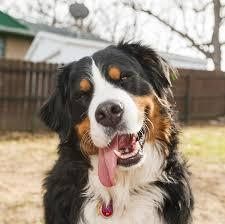Dog: (36, 42, 178, 162)
